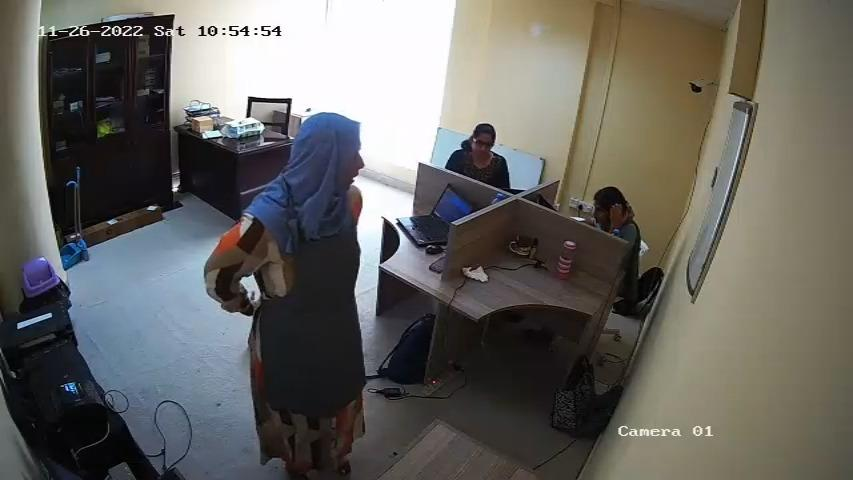apron: (248, 196, 371, 407)
